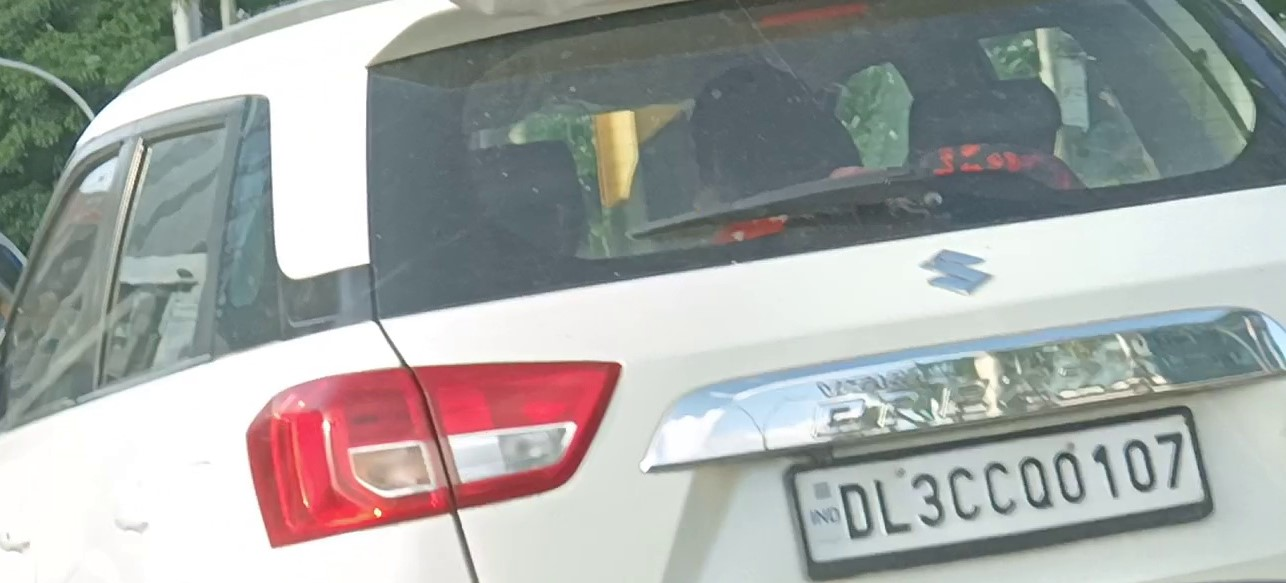DL3CCQ0107: (793, 413, 1208, 565)
